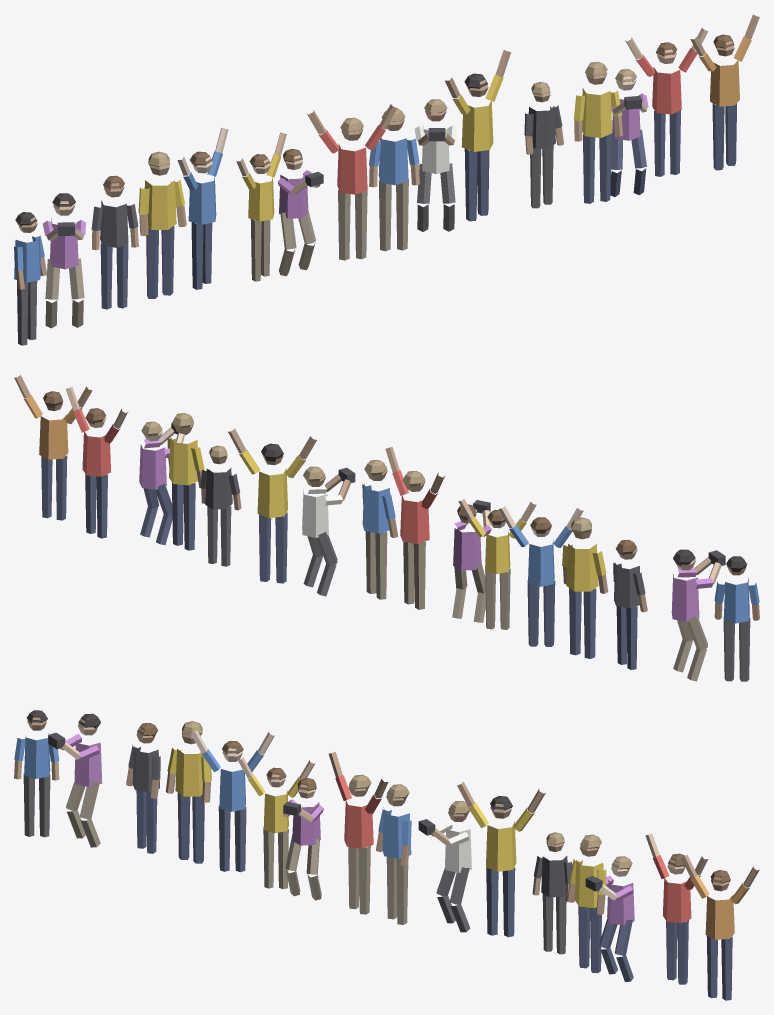
File: crowd_row_10m_a.glb
The picture shows the model from 3 angles, top to bottom: view 1: azimuth 30°, elevation 25°; view 2: azimuth 150°, elevation 25°; view 3: azimuth 330°, elevation 25°; orthographic projection. The views are drawn at different scales.
Parts seen in each view (by area): view 1: crowd_row_10m_a; view 2: crowd_row_10m_a; view 3: crowd_row_10m_a.
Part boxes in pixels (x1,y1,x2,y2): crowd_row_10m_a: (14, 14, 759, 345); crowd_row_10m_a: (14, 374, 759, 681); crowd_row_10m_a: (14, 710, 759, 1000).
Size of the model in its own units: 10.73 by 2.11 by 1.06.
